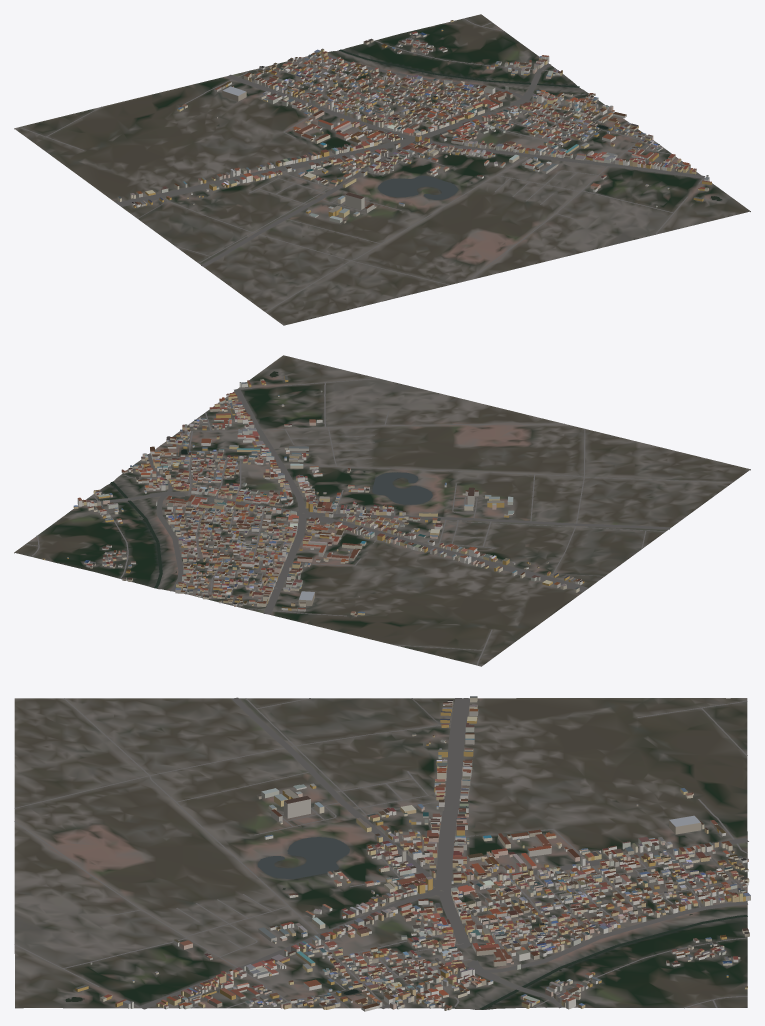
3 renders of one model, top to bottom at view 1: azimuth 30°, elevation 25°; view 2: azimuth 150°, elevation 25°; view 3: azimuth 270°, elevation 25°, orthographic. The views are drawn at different scales.
Parts seen in each view (by area): view 1: ground, buildings, roads, water; view 2: ground, buildings, roads, water; view 3: ground, buildings, roads, water.
Part boxes in pixels (box(x1,y1,x2,y2)): ground: box(14, 14, 750, 325); buildings: box(117, 20, 711, 223); roads: box(18, 18, 705, 312); water: box(339, 49, 722, 200); ground: box(14, 355, 750, 666); buildings: box(42, 376, 584, 616); roads: box(25, 378, 732, 665); water: box(110, 371, 432, 588); ground: box(14, 698, 747, 1009); buildings: box(75, 696, 750, 1011); roads: box(14, 697, 748, 1009); water: box(65, 837, 747, 1009).
Bounding box in the file's own units: 1420 × 37.8 × 1410.
